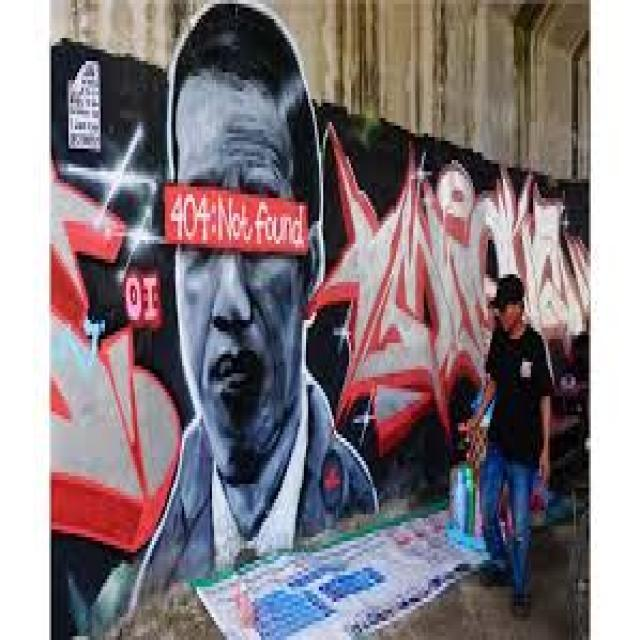-: (47, 1, 590, 640)
